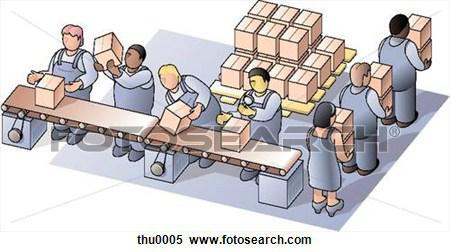person: (24, 22, 97, 147), (215, 66, 283, 184), (92, 39, 154, 160), (156, 63, 224, 170), (374, 10, 434, 129), (336, 61, 392, 177), (305, 101, 353, 218)
